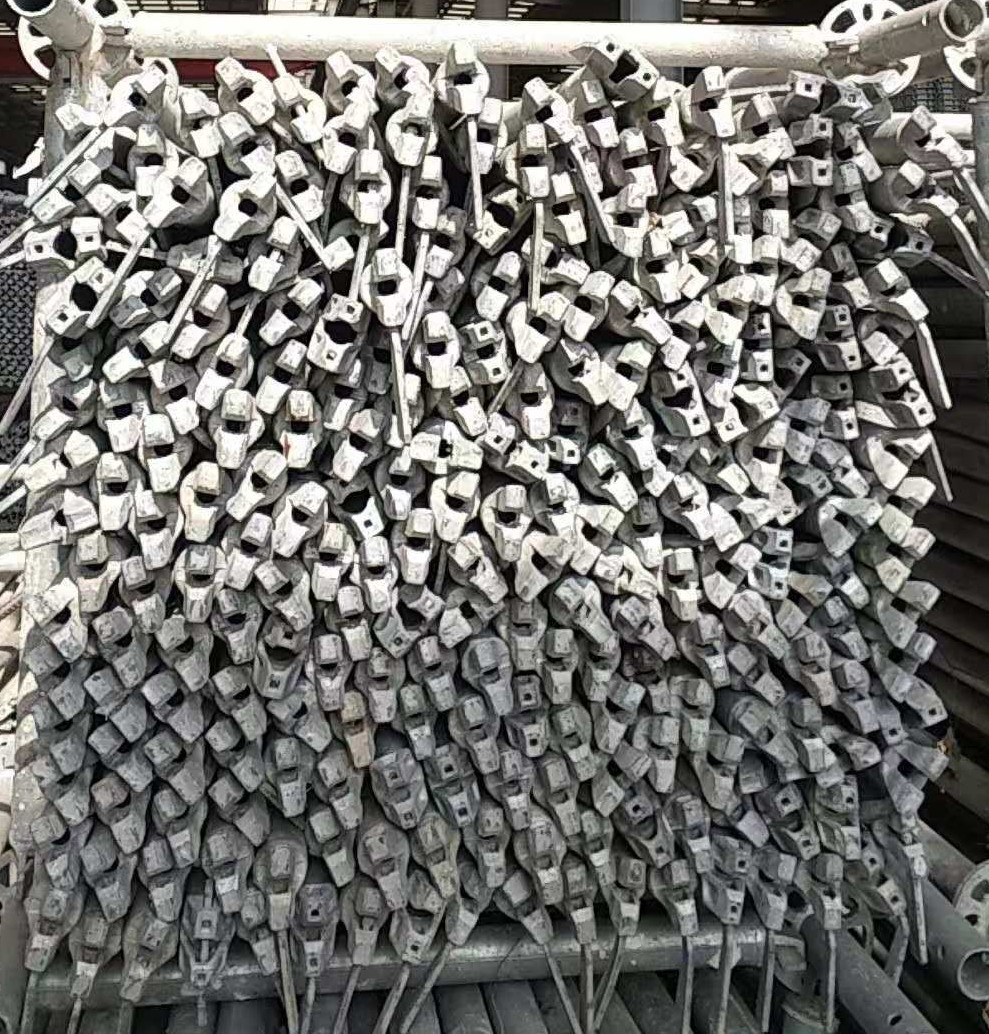NHsquare_steel: (253, 279, 322, 349), (20, 589, 84, 663), (18, 647, 85, 717), (99, 323, 174, 384), (225, 451, 286, 525), (29, 378, 97, 444), (211, 172, 276, 241), (193, 333, 252, 409), (24, 439, 100, 497), (83, 182, 151, 246), (144, 159, 208, 227), (28, 162, 100, 222), (111, 268, 182, 328), (207, 776, 267, 847), (213, 55, 274, 124), (591, 747, 651, 817), (83, 672, 142, 743), (246, 216, 300, 293), (27, 701, 83, 775), (117, 923, 169, 1001), (210, 666, 267, 737), (142, 733, 199, 804), (141, 677, 203, 742), (86, 727, 151, 789), (331, 411, 385, 485), (171, 285, 227, 356), (612, 282, 673, 347), (217, 110, 276, 177), (20, 499, 97, 550), (274, 482, 327, 556), (443, 542, 506, 604), (900, 104, 965, 164), (618, 597, 678, 662), (149, 791, 200, 867), (102, 65, 163, 128), (79, 844, 129, 920), (146, 360, 198, 433), (93, 780, 145, 853), (510, 539, 572, 600), (512, 291, 566, 361), (54, 100, 110, 167), (26, 889, 69, 976), (256, 562, 310, 631), (254, 340, 307, 410), (204, 722, 257, 792), (29, 757, 84, 824), (564, 271, 615, 343), (308, 809, 355, 887), (736, 705, 796, 766), (524, 73, 576, 143), (690, 61, 736, 140), (93, 611, 142, 685), (893, 162, 960, 216), (879, 475, 933, 542), (500, 873, 550, 945), (704, 545, 762, 607), (733, 595, 788, 660), (572, 506, 623, 576), (895, 746, 946, 816), (65, 916, 107, 1001), (136, 414, 181, 493), (436, 593, 503, 646), (278, 145, 324, 222), (555, 580, 612, 642), (267, 696, 330, 752), (597, 680, 645, 753), (29, 819, 77, 892), (523, 817, 563, 904), (117, 557, 164, 631), (138, 843, 182, 922), (708, 499, 776, 550), (453, 696, 498, 773), (875, 260, 929, 324), (443, 39, 487, 117), (819, 597, 871, 663), (467, 639, 511, 717), (373, 42, 431, 101), (781, 212, 840, 270), (885, 632, 936, 699), (877, 528, 933, 589), (585, 446, 639, 509), (275, 75, 325, 143), (361, 833, 406, 908), (420, 207, 468, 277), (324, 52, 378, 114), (605, 341, 654, 409), (886, 582, 938, 646), (203, 837, 245, 916), (773, 574, 830, 632), (827, 498, 883, 557), (578, 76, 622, 151), (521, 237, 587, 287), (640, 440, 700, 495), (161, 619, 208, 689), (183, 461, 222, 545), (782, 268, 828, 339), (225, 516, 271, 587), (878, 430, 931, 491), (495, 750, 535, 830), (390, 98, 437, 166), (326, 105, 371, 176), (703, 730, 743, 809), (643, 712, 682, 793), (573, 809, 615, 884), (475, 252, 522, 319), (317, 758, 361, 829), (268, 740, 308, 818), (73, 533, 110, 617), (837, 661, 879, 735), (442, 878, 487, 947), (748, 91, 794, 158), (785, 396, 831, 463), (561, 340, 607, 407), (309, 633, 348, 712), (541, 757, 581, 834), (560, 867, 599, 945), (259, 849, 297, 929), (643, 78, 687, 146), (372, 247, 408, 330), (474, 805, 510, 888), (436, 471, 478, 542), (178, 544, 216, 622), (837, 119, 884, 182), (554, 706, 594, 780), (238, 901, 278, 975), (420, 310, 456, 392), (662, 550, 703, 622), (662, 301, 706, 368), (550, 171, 589, 246), (731, 139, 783, 195), (713, 274, 755, 343), (442, 371, 488, 434), (610, 186, 649, 260), (835, 160, 874, 234), (217, 588, 254, 666), (641, 229, 679, 304), (322, 360, 363, 429), (335, 691, 373, 765), (819, 741, 881, 786), (830, 242, 871, 310), (134, 488, 168, 570), (516, 126, 553, 201), (678, 677, 715, 752), (417, 637, 455, 710), (215, 389, 250, 468), (542, 628, 577, 707), (671, 473, 712, 540), (670, 137, 718, 194), (104, 378, 140, 454), (613, 858, 649, 934), (598, 554, 660, 598), (619, 127, 656, 200), (675, 797, 711, 872), (799, 634, 838, 703), (517, 363, 551, 442), (96, 453, 130, 532), (620, 398, 657, 470), (760, 855, 796, 929), (466, 100, 501, 176), (684, 239, 729, 298), (400, 510, 434, 588), (412, 156, 445, 236), (628, 497, 665, 568), (791, 696, 826, 771), (664, 861, 699, 936), (541, 473, 579, 542), (282, 389, 315, 468), (820, 441, 869, 494), (693, 612, 727, 688), (312, 523, 344, 602), (349, 886, 381, 965), (356, 147, 386, 231), (336, 588, 371, 660), (364, 651, 398, 725), (492, 485, 525, 561), (756, 170, 792, 239), (815, 851, 846, 930), (132, 123, 165, 197), (753, 420, 787, 491), (399, 684, 432, 757), (701, 443, 749, 493), (827, 552, 869, 608), (721, 796, 768, 846), (412, 436, 482, 469), (362, 537, 392, 613), (586, 638, 620, 704), (749, 231, 778, 308), (509, 598, 540, 670), (863, 319, 916, 361), (636, 650, 671, 713), (663, 197, 721, 235), (707, 341, 738, 405), (362, 330, 392, 394), (386, 449, 411, 520)
THsquare_steel: (35, 263, 112, 341), (592, 34, 661, 95), (762, 786, 819, 859), (378, 590, 443, 654), (311, 297, 368, 369), (255, 621, 307, 699), (372, 753, 423, 830), (397, 884, 444, 966), (659, 366, 711, 438), (884, 357, 935, 430), (429, 744, 474, 826), (621, 797, 674, 864), (331, 470, 382, 537), (713, 392, 779, 442), (20, 224, 101, 264), (821, 782, 863, 859), (785, 69, 860, 112), (881, 695, 946, 744), (716, 845, 756, 924), (297, 894, 335, 975), (767, 472, 832, 519), (464, 322, 513, 384), (870, 217, 935, 263), (820, 370, 861, 442), (800, 114, 838, 190), (513, 675, 546, 757), (862, 849, 904, 913), (824, 302, 862, 372), (763, 530, 796, 598), (555, 401, 586, 461), (749, 311, 773, 376), (768, 351, 810, 388)
THsquare_steel_blocked: (179, 905, 229, 990)
circle_steel: (935, 1, 987, 47), (954, 939, 989, 1000)
